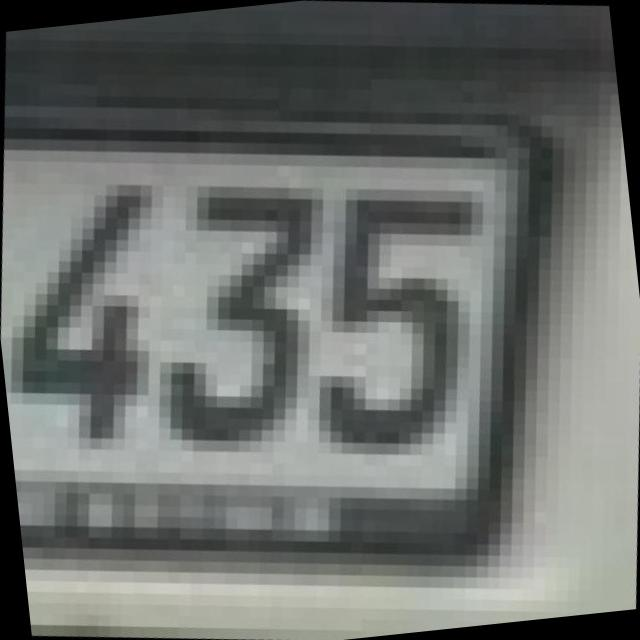LicensePlate: (0, 23, 633, 640)
